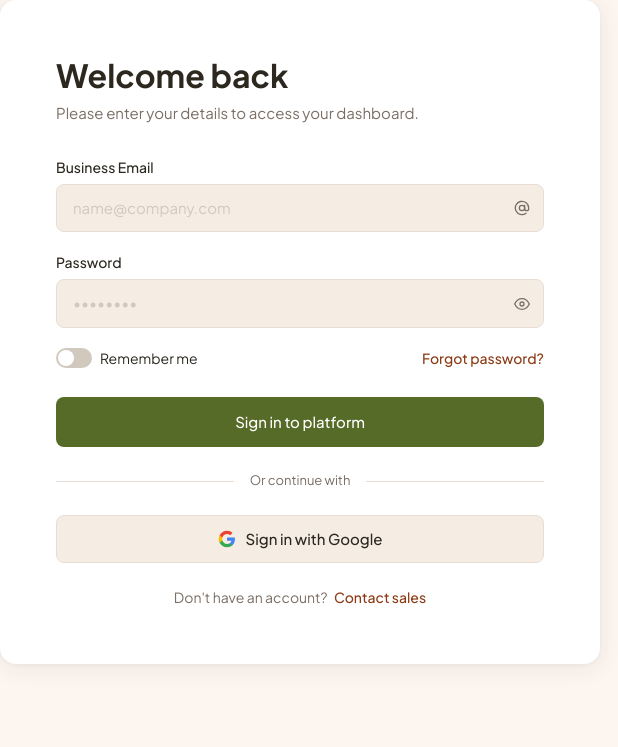
it: LoginForm › should show fallback error when no message is provided
Click the button "Sign in to platform" at x=300, y=422, box [56,397,544,447]
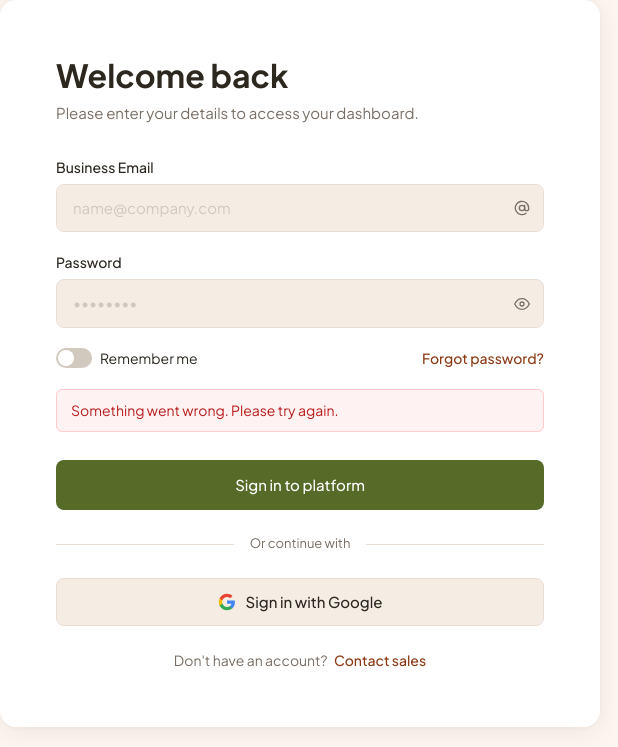
Check: the message reads "Something went wrong. Please try again.", box [71,401,338,419]
